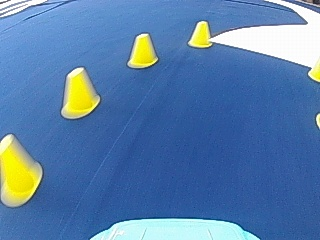cone: (0, 134, 41, 207), (60, 66, 101, 118), (127, 32, 159, 68), (187, 20, 212, 48), (308, 56, 320, 82)
